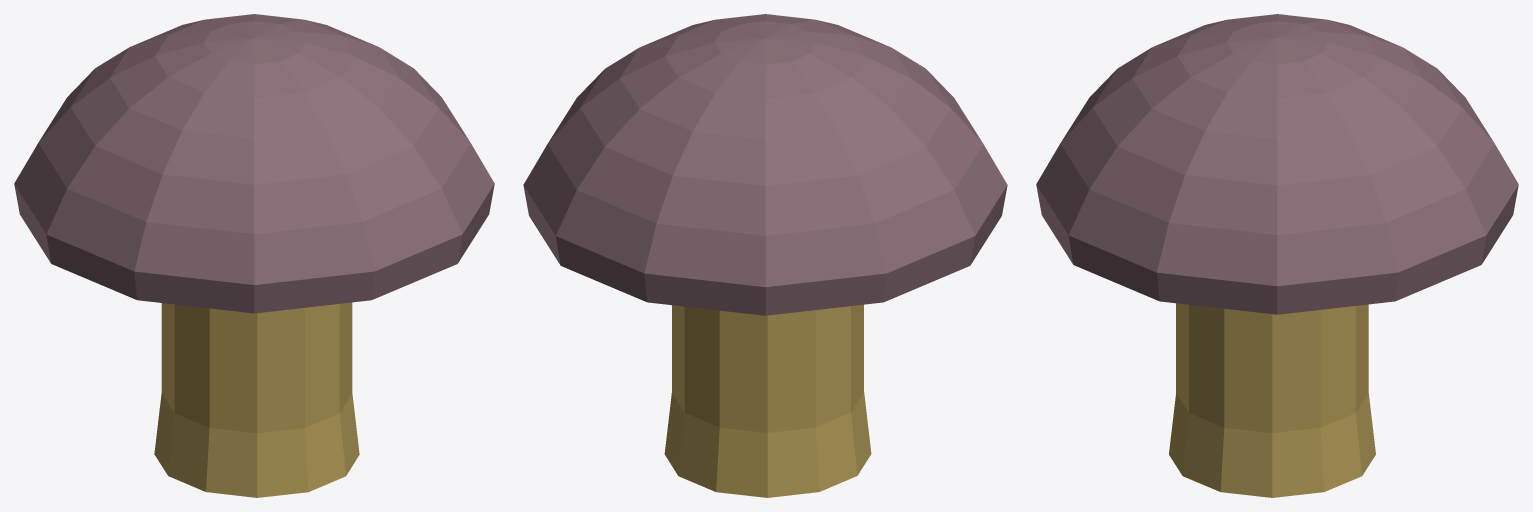
File: imleria animation.fbx
3 renders of one model, left to right at view 1: azimuth 30°, elevation 25°; view 2: azimuth 150°, elevation 25°; view 3: azimuth 270°, elevation 25°, orthographic.
Visible parts, largest first — view 1: Cylinder; view 2: Cylinder; view 3: Cylinder.
Part boxes in pixels (x1,y1,x2,y2): Cylinder: (14, 14, 494, 497); Cylinder: (523, 14, 1007, 497); Cylinder: (1036, 14, 1518, 497).
Size of the model in its own units: 17.06 by 16.23 by 17.06.
